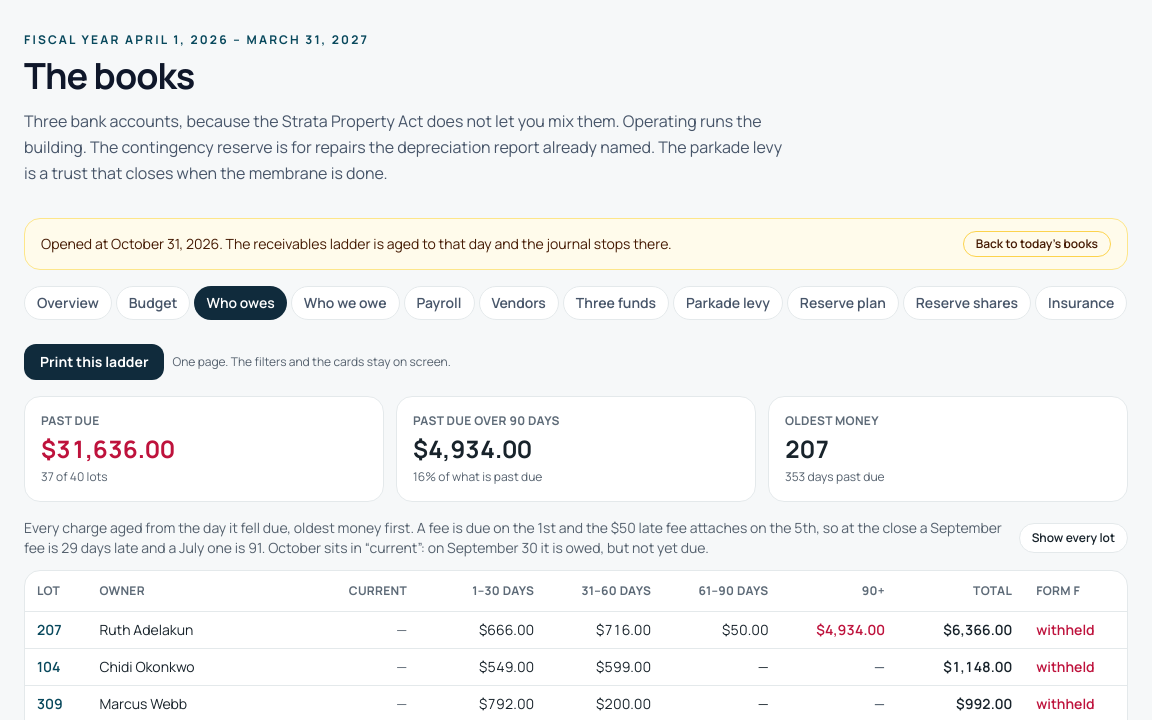
it: /accounting?period= › says when the bank has not closed the month
This screenshot has width=1152, height=720.
Click the button "Three funds" at (616, 303), box [563,286,669,320]
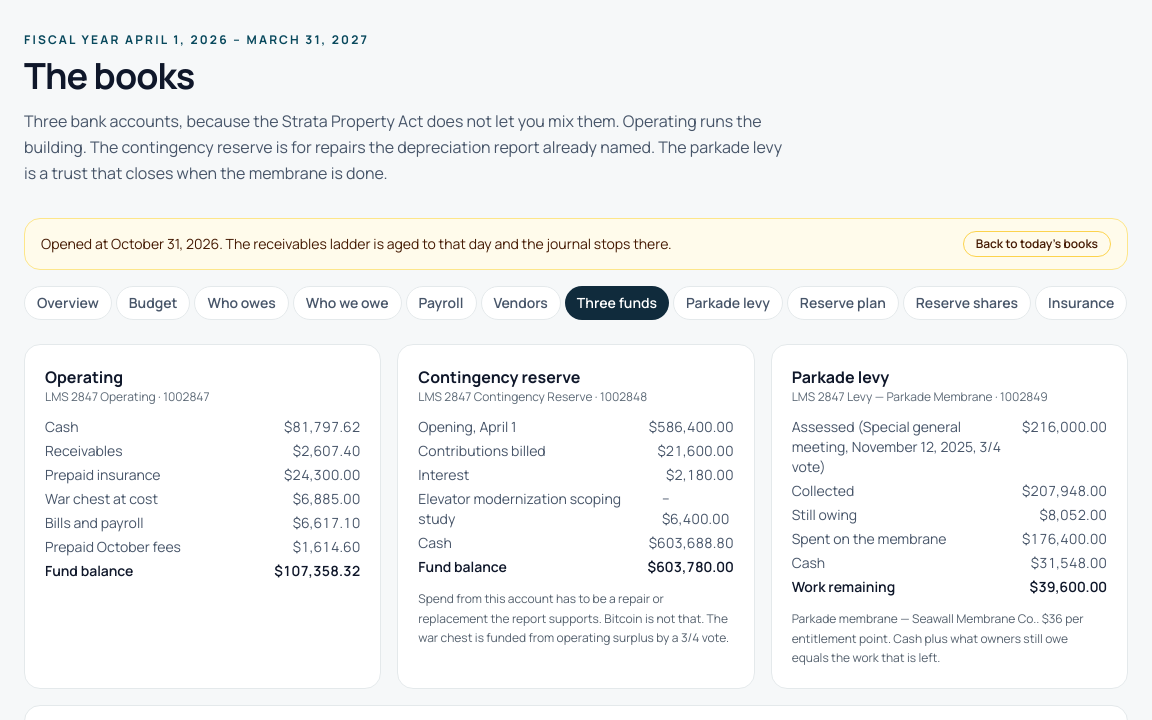
expect the text "$81,797.62" is shown: met, box [284,417,360,437]
